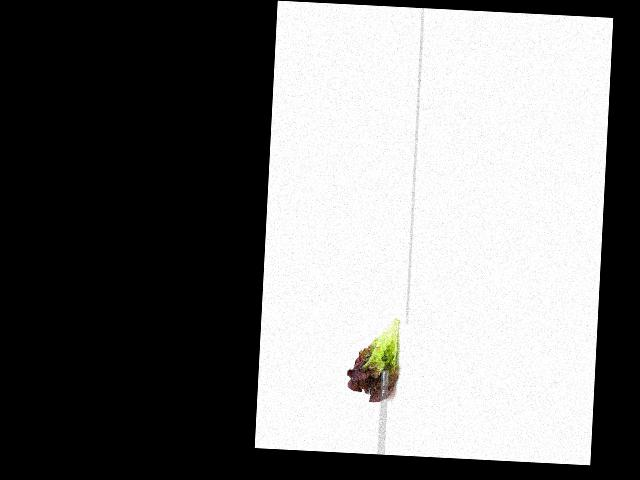lettuce: (345, 312, 405, 405)
